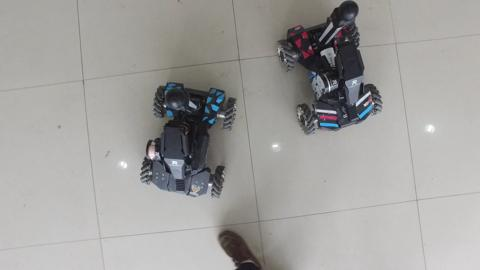chariot: (265, 1, 389, 140), (132, 75, 244, 203)
